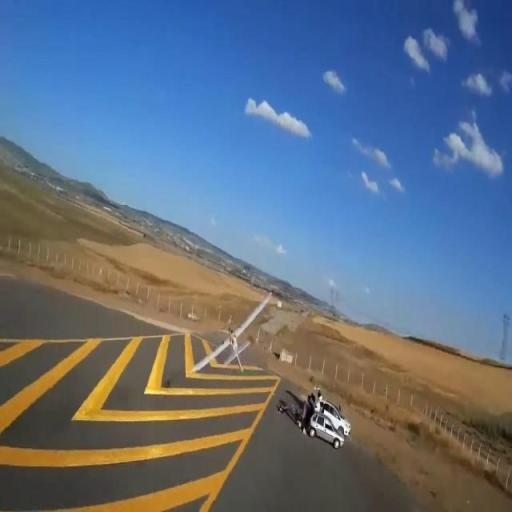uav: (194, 291, 270, 371)
